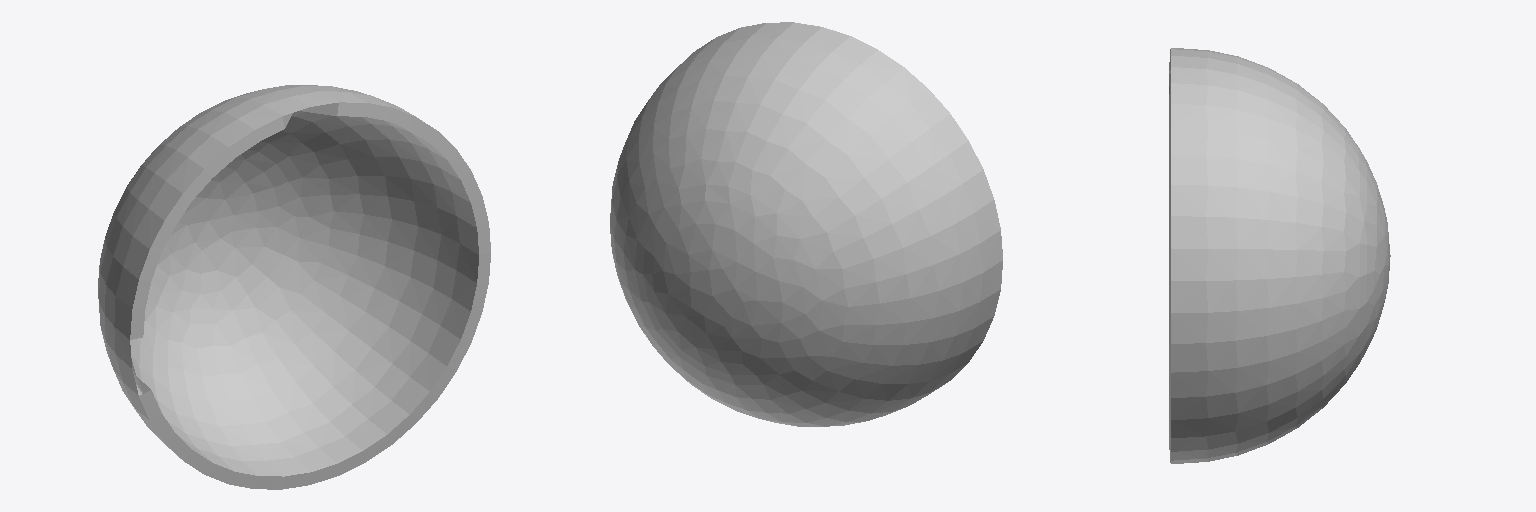
File: hublou_obj.obj
The picture shows the model from 3 angles: view 1: azimuth 30°, elevation 25°; view 2: azimuth 150°, elevation 25°; view 3: azimuth 270°, elevation 25°; orthographic projection.
Visible parts, largest first — view 1: Odyssey_OBJ; view 2: Odyssey_OBJ; view 3: Odyssey_OBJ.
Boxes of the visible parts, x1=… form: Odyssey_OBJ: x1=98, y1=85, x2=490, y2=489; Odyssey_OBJ: x1=610, y1=22, x2=1002, y2=426; Odyssey_OBJ: x1=1169, y1=48, x2=1390, y2=463.
Bounding box in the file's own units: 218 × 218 × 116.